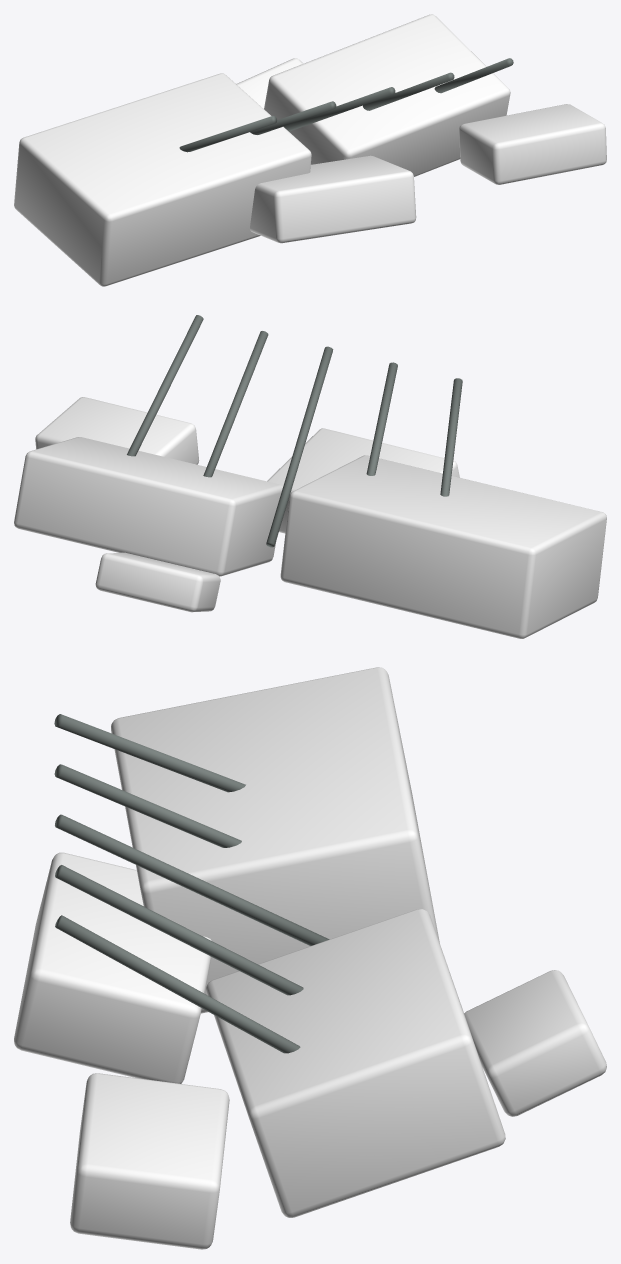
Rendered from rubble_cluster_v3.glb.
3 renders of one model, top to bottom at view 1: azimuth 30°, elevation 25°; view 2: azimuth 150°, elevation 25°; view 3: azimuth 270°, elevation 25°, orthographic. The views are drawn at different scales.
Visible parts, largest first — view 1: Rubble_0, Rubble_2, Rubble_1, Rubble_3, Rubble_4, RubbleRebar2, RubbleRebar0, RubbleRebar3, RubbleRebar4, RubbleRebar1; view 2: Rubble_0, Rubble_2, Rubble_3, Rubble_4, Rubble_1, RubbleRebar2, RubbleRebar4, RubbleRebar3, RubbleRebar0, RubbleRebar1; view 3: Rubble_0, Rubble_2, Rubble_1, Rubble_3, Rubble_4, RubbleRebar2, RubbleRebar3, RubbleRebar4, RubbleRebar1, RubbleRebar0.
Part boxes in pixels (x1=…): Rubble_0: x1=14, y1=73, x2=311, y2=286; Rubble_2: x1=264, y1=14, x2=510, y2=176; Rubble_1: x1=250, y1=155, x2=416, y2=243; Rubble_3: x1=459, y1=104, x2=606, y2=184; Rubble_4: x1=236, y1=58, x2=302, y2=108; RubbleRebar2: x1=283, y1=87, x2=395, y2=131; RubbleRebar0: x1=179, y1=116, x2=276, y2=152; RubbleRebar3: x1=363, y1=72, x2=454, y2=110; RubbleRebar4: x1=434, y1=58, x2=513, y2=93; RubbleRebar1: x1=250, y1=101, x2=336, y2=134; Rubble_0: x1=280, y1=455, x2=606, y2=638; Rubble_2: x1=14, y1=437, x2=283, y2=576; Rubble_3: x1=35, y1=397, x2=199, y2=464; Rubble_4: x1=95, y1=552, x2=220, y2=612; Rubble_1: x1=267, y1=428, x2=459, y2=533; RubbleRebar2: x1=266, y1=346, x2=333, y2=547; RubbleRebar4: x1=127, y1=315, x2=203, y2=456; RubbleRebar3: x1=203, y1=331, x2=268, y2=477; RubbleRebar0: x1=440, y1=378, x2=462, y2=496; RubbleRebar1: x1=366, y1=362, x2=397, y2=475; Rubble_0: x1=111, y1=667, x2=439, y2=1013; Rubble_2: x1=206, y1=909, x2=505, y2=1217; Rubble_1: x1=14, y1=852, x2=211, y2=1083; Rubble_3: x1=70, y1=1073, x2=229, y2=1249; Rubble_4: x1=464, y1=970, x2=606, y2=1116; RubbleRebar2: x1=55, y1=814, x2=329, y2=945; RubbleRebar3: x1=55, y1=865, x2=303, y2=995; RubbleRebar4: x1=55, y1=915, x2=300, y2=1053; RubbleRebar1: x1=54, y1=764, x2=241, y2=847; RubbleRebar0: x1=54, y1=714, x2=245, y2=792.
Bounding box in the file's own units: 2.57 × 0.7667 × 1.5.
2 materials, 1 textured.
